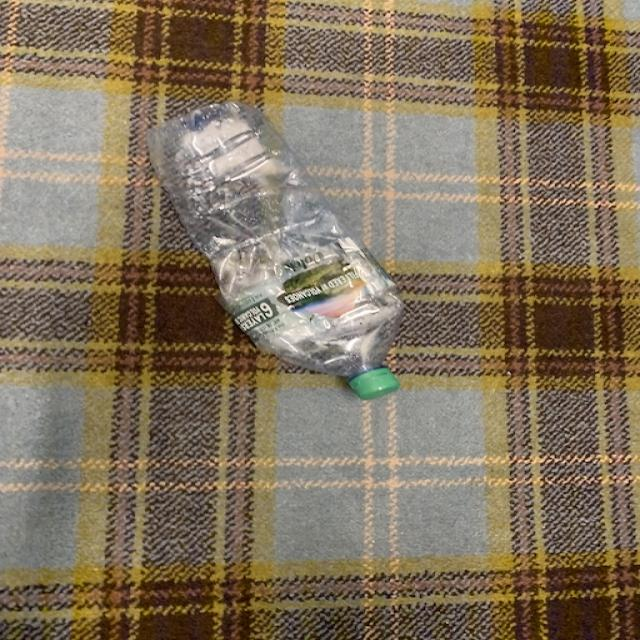Waste: (148, 102, 405, 400)
